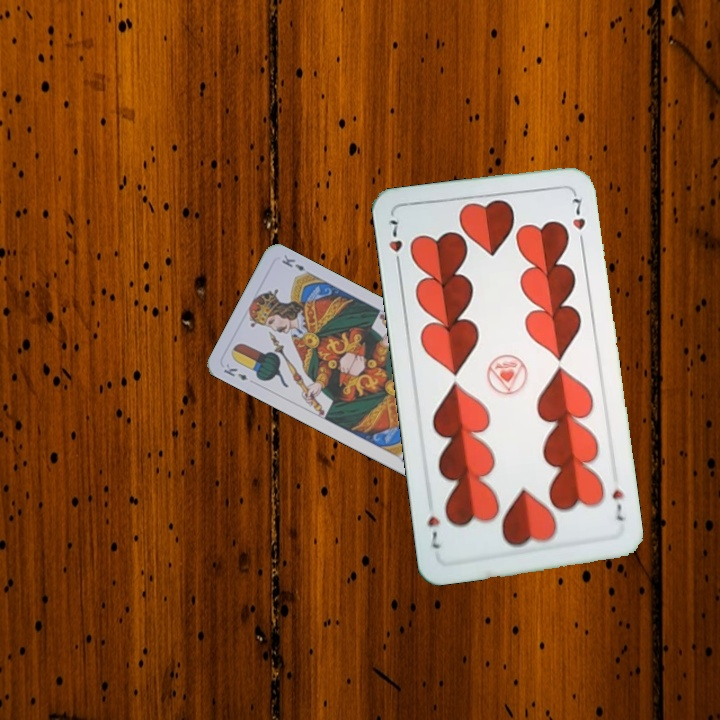EK: (220, 360, 250, 383)
H7: (384, 214, 405, 272), (608, 485, 626, 523)
